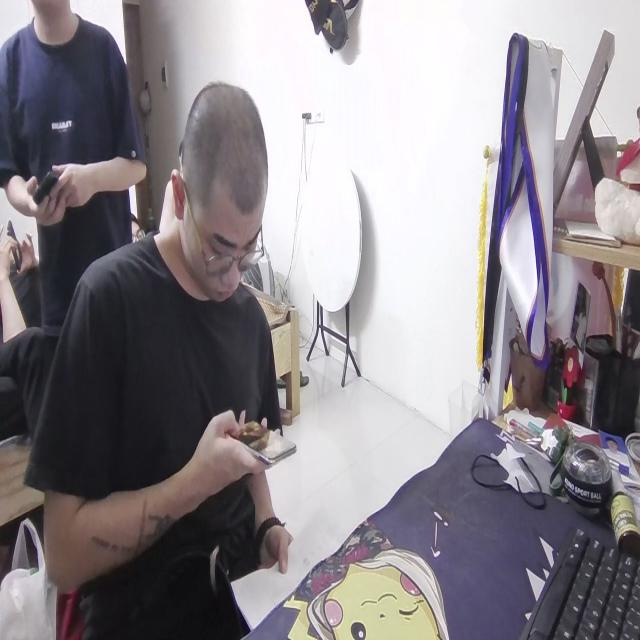book: (220, 523, 356, 639)
extra_person: (0, 0, 144, 337)
phone: (227, 405, 293, 470), (28, 167, 58, 205)
student: (33, 77, 296, 640)
